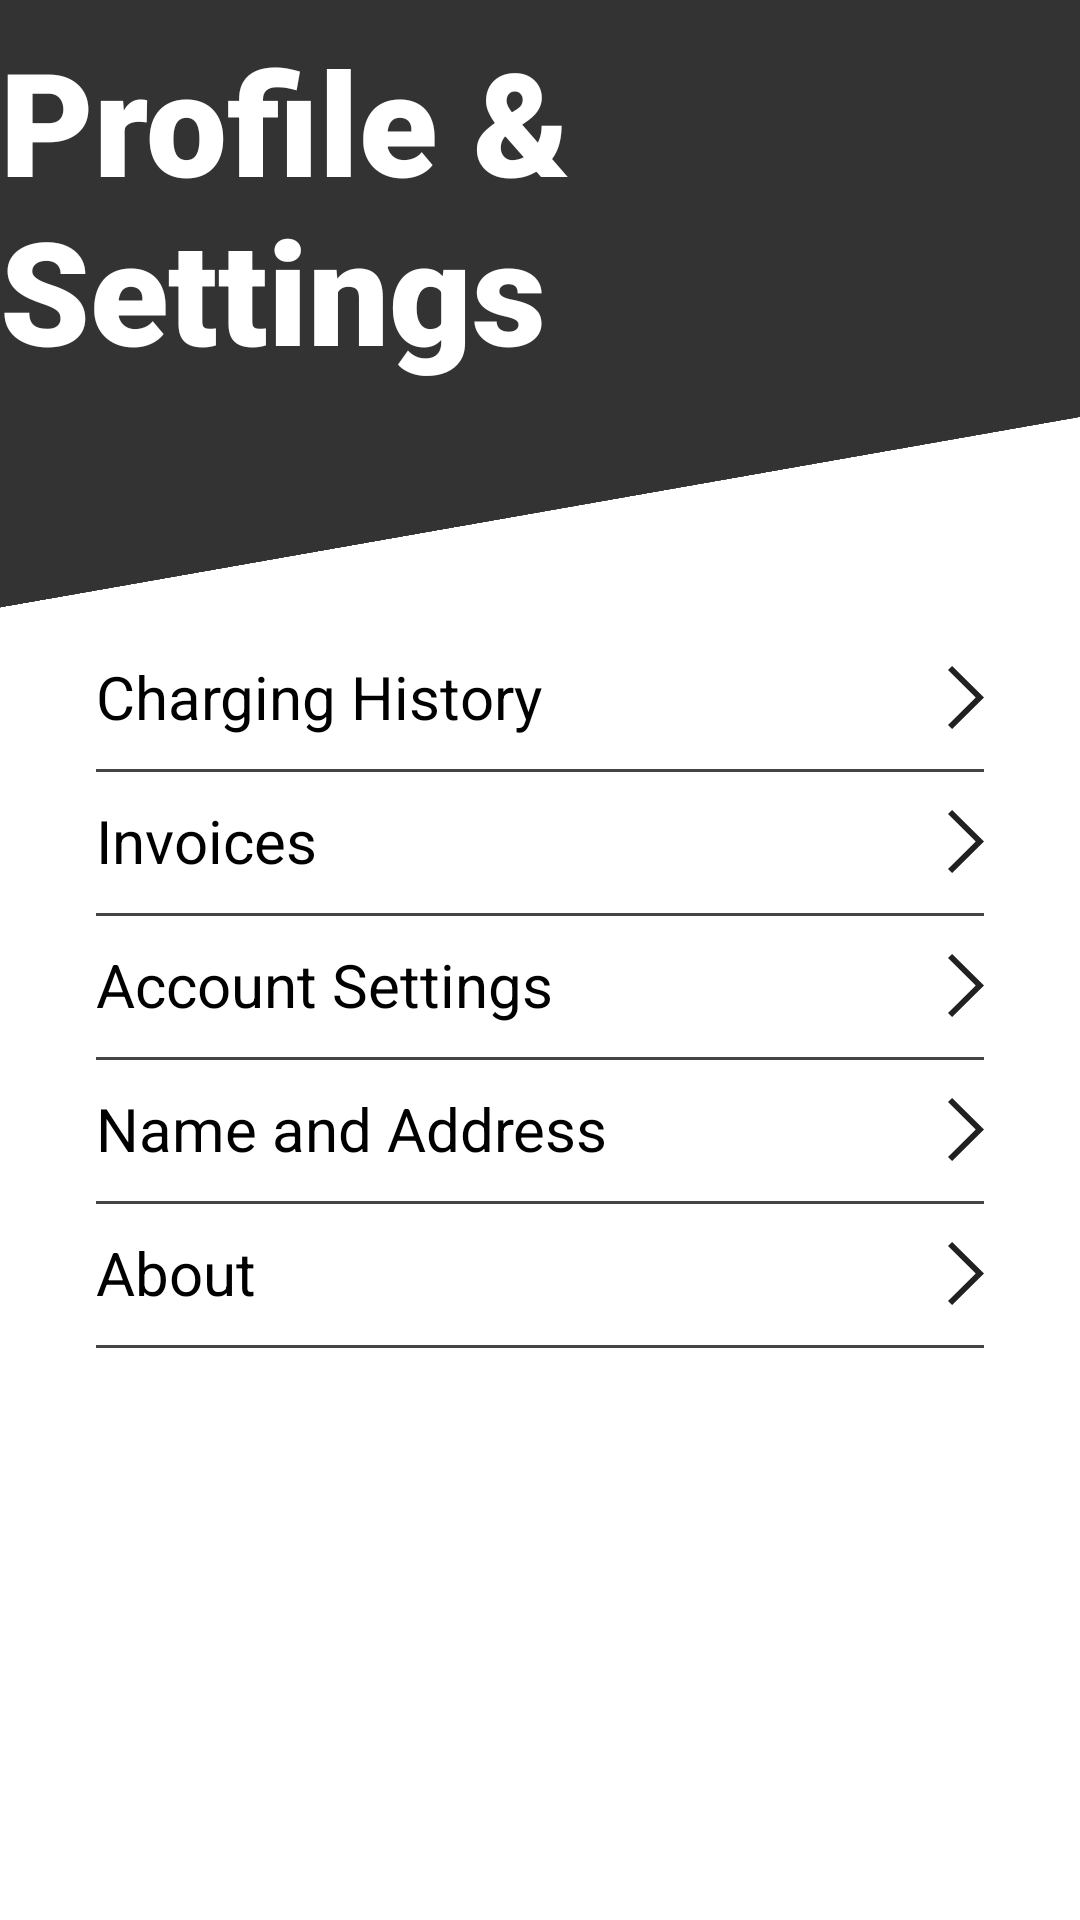

Named icons in this screenshot (1080x1920) and their bounding boxes, {"left": x1, "top": y1, "right": x2, "bottom": y2}:
arrow right: {"left": 948, "top": 666, "right": 984, "bottom": 729}, {"left": 948, "top": 810, "right": 984, "bottom": 873}, {"left": 948, "top": 954, "right": 984, "bottom": 1017}, {"left": 948, "top": 1098, "right": 984, "bottom": 1161}, {"left": 948, "top": 1242, "right": 984, "bottom": 1305}
